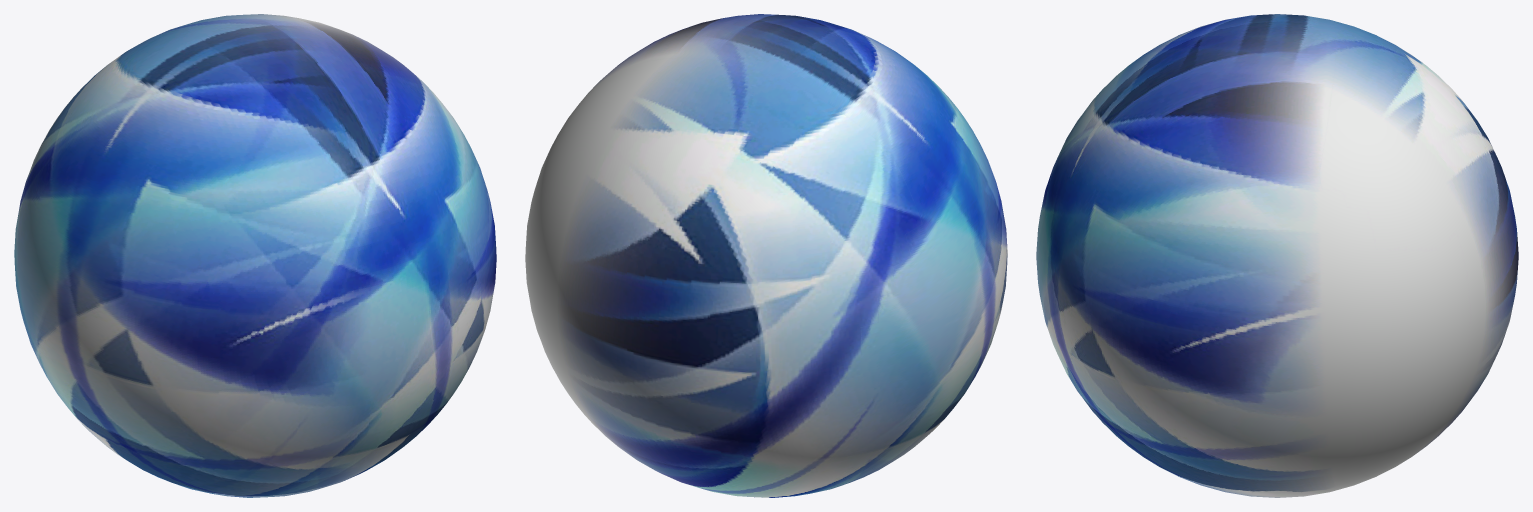
Rendered from RareSkinTest1.fbx.
3 renders of one model, left to right at view 1: azimuth 30°, elevation 25°; view 2: azimuth 150°, elevation 25°; view 3: azimuth 270°, elevation 25°, orthographic.
Visible parts, largest first — view 1: root; view 2: root; view 3: root.
Boxes of the visible parts, x1,y1,x2,y2 form: root: (14, 14, 496, 497); root: (525, 14, 1007, 497); root: (1036, 14, 1518, 497).
Size of the model in its own units: 0.2454 by 0.2464 by 0.2454.
1 material, 1 textured.
